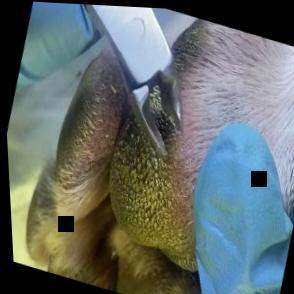keratosis: (89, 98, 232, 276)
